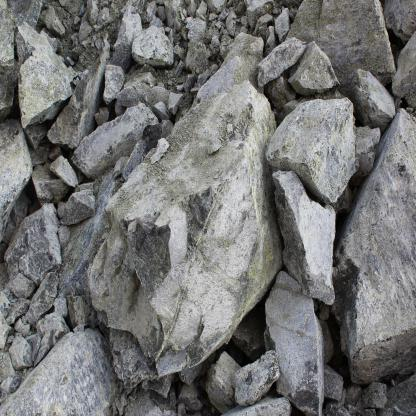stone: (88, 84, 277, 385), (336, 112, 416, 378), (0, 330, 116, 416), (267, 96, 357, 204), (275, 167, 338, 302), (267, 271, 325, 413), (71, 105, 157, 177), (48, 47, 108, 150), (16, 20, 72, 126), (2, 205, 59, 283), (289, 40, 340, 98), (347, 69, 395, 126), (232, 351, 278, 407), (259, 37, 308, 87), (112, 7, 142, 70), (131, 25, 173, 64), (26, 274, 58, 324), (60, 189, 95, 225), (50, 155, 79, 188), (102, 64, 125, 105), (35, 313, 69, 340), (33, 330, 55, 367), (9, 336, 32, 371), (67, 295, 92, 327), (186, 42, 208, 74), (362, 382, 386, 409), (324, 369, 343, 401), (10, 274, 34, 298), (186, 17, 206, 44), (275, 7, 290, 42), (166, 90, 183, 114), (58, 226, 72, 251), (54, 297, 68, 316), (14, 320, 30, 336), (196, 0, 207, 20)
